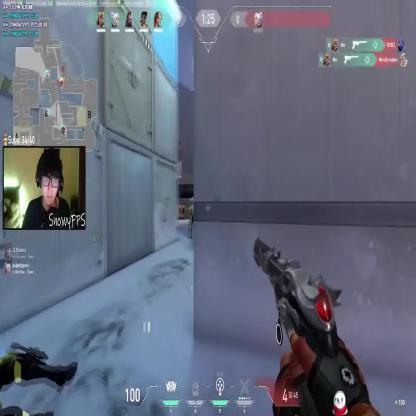enemy: (187, 196, 197, 238)
enemy_head: (190, 196, 195, 204)
